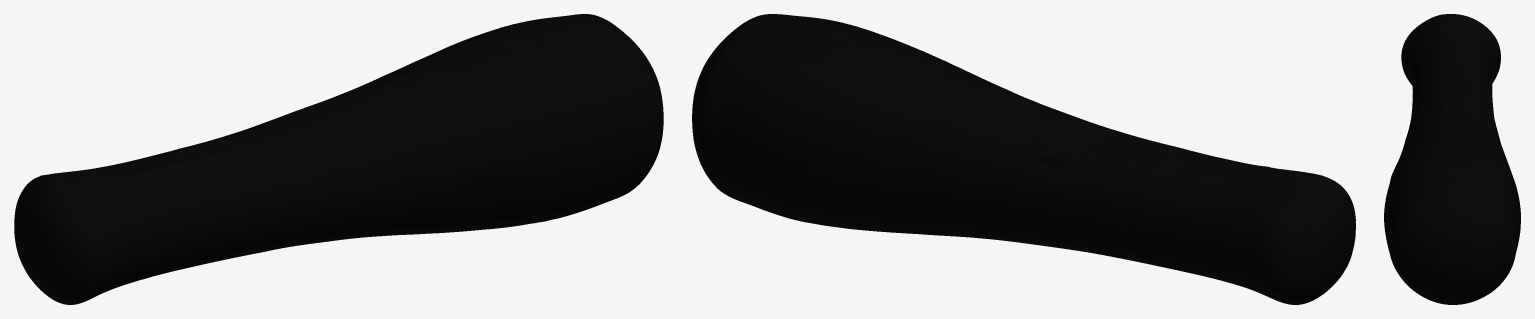
File: lod_basic_pbr.fbx
The picture shows the model from 3 angles, left to right: view 1: azimuth 30°, elevation 25°; view 2: azimuth 150°, elevation 25°; view 3: azimuth 270°, elevation 25°; orthographic projection. The views are drawn at different scales.
Visible parts, largest first — view 1: model_LOD0; view 2: model_LOD0; view 3: model_LOD0.
Boxes of the visible parts, x1,y1,x2,y2 form: model_LOD0: [14, 14, 663, 304]; model_LOD0: [692, 14, 1355, 304]; model_LOD0: [1384, 14, 1520, 304].
Size of what is drawn, in the model's own units: 190 by 51.75 by 51.32.
Materials: 1 (1 with a texture image).
